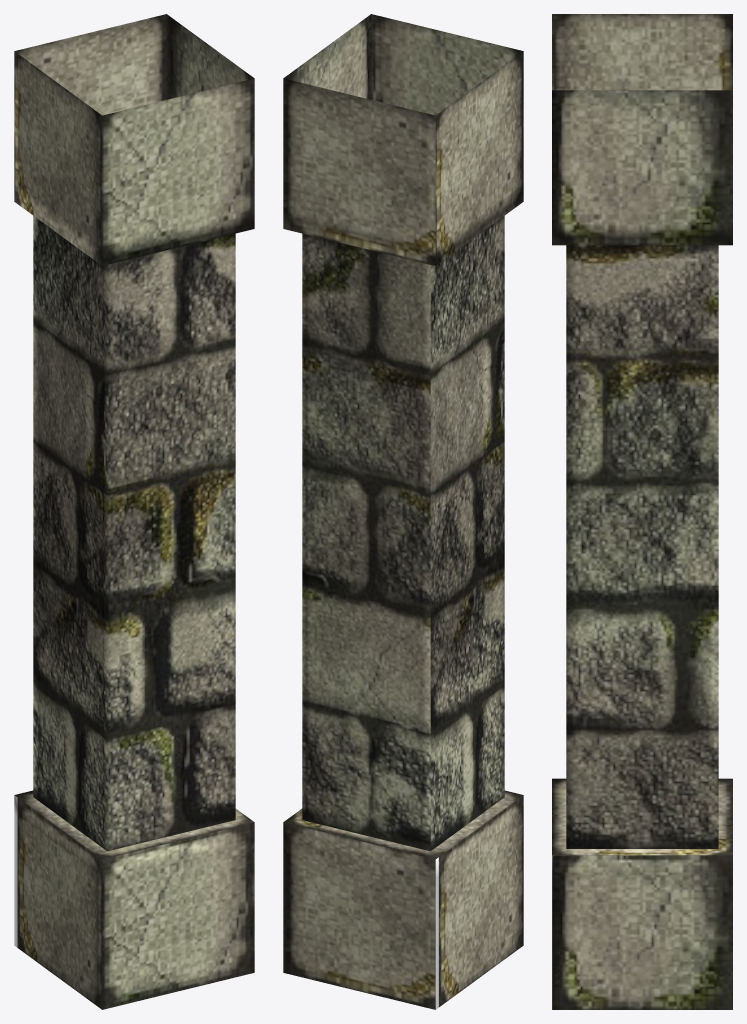
The model's file is column.fbx.
The picture shows the model from 3 angles, left to right: view 1: azimuth 30°, elevation 25°; view 2: azimuth 150°, elevation 25°; view 3: azimuth 270°, elevation 25°; orthographic projection. The views are drawn at different scales.
Visible parts, largest first — view 1: Column_001; view 2: Column_001; view 3: Column_001.
Part boxes in pixels (x1,y1,x2,y2): Column_001: (14, 14, 254, 1009); Column_001: (283, 14, 523, 1009); Column_001: (552, 14, 732, 1009).
Size of the model in its own units: 0.1783 by 1 by 0.1783.
